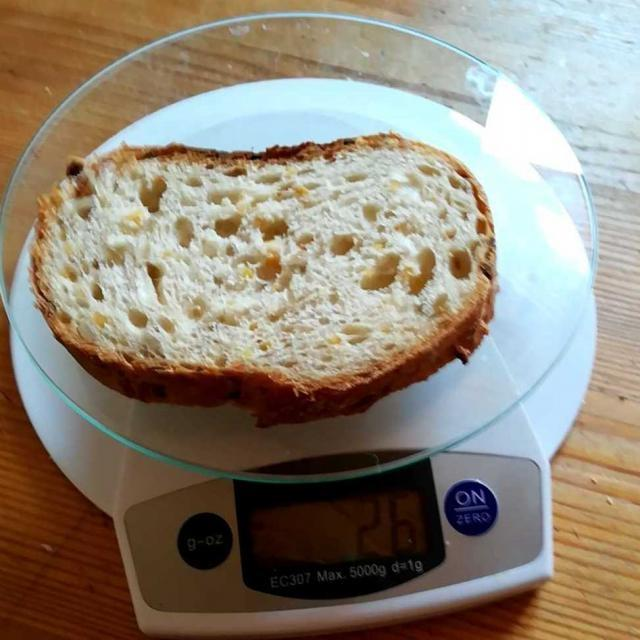bread: (35, 135, 489, 411)
